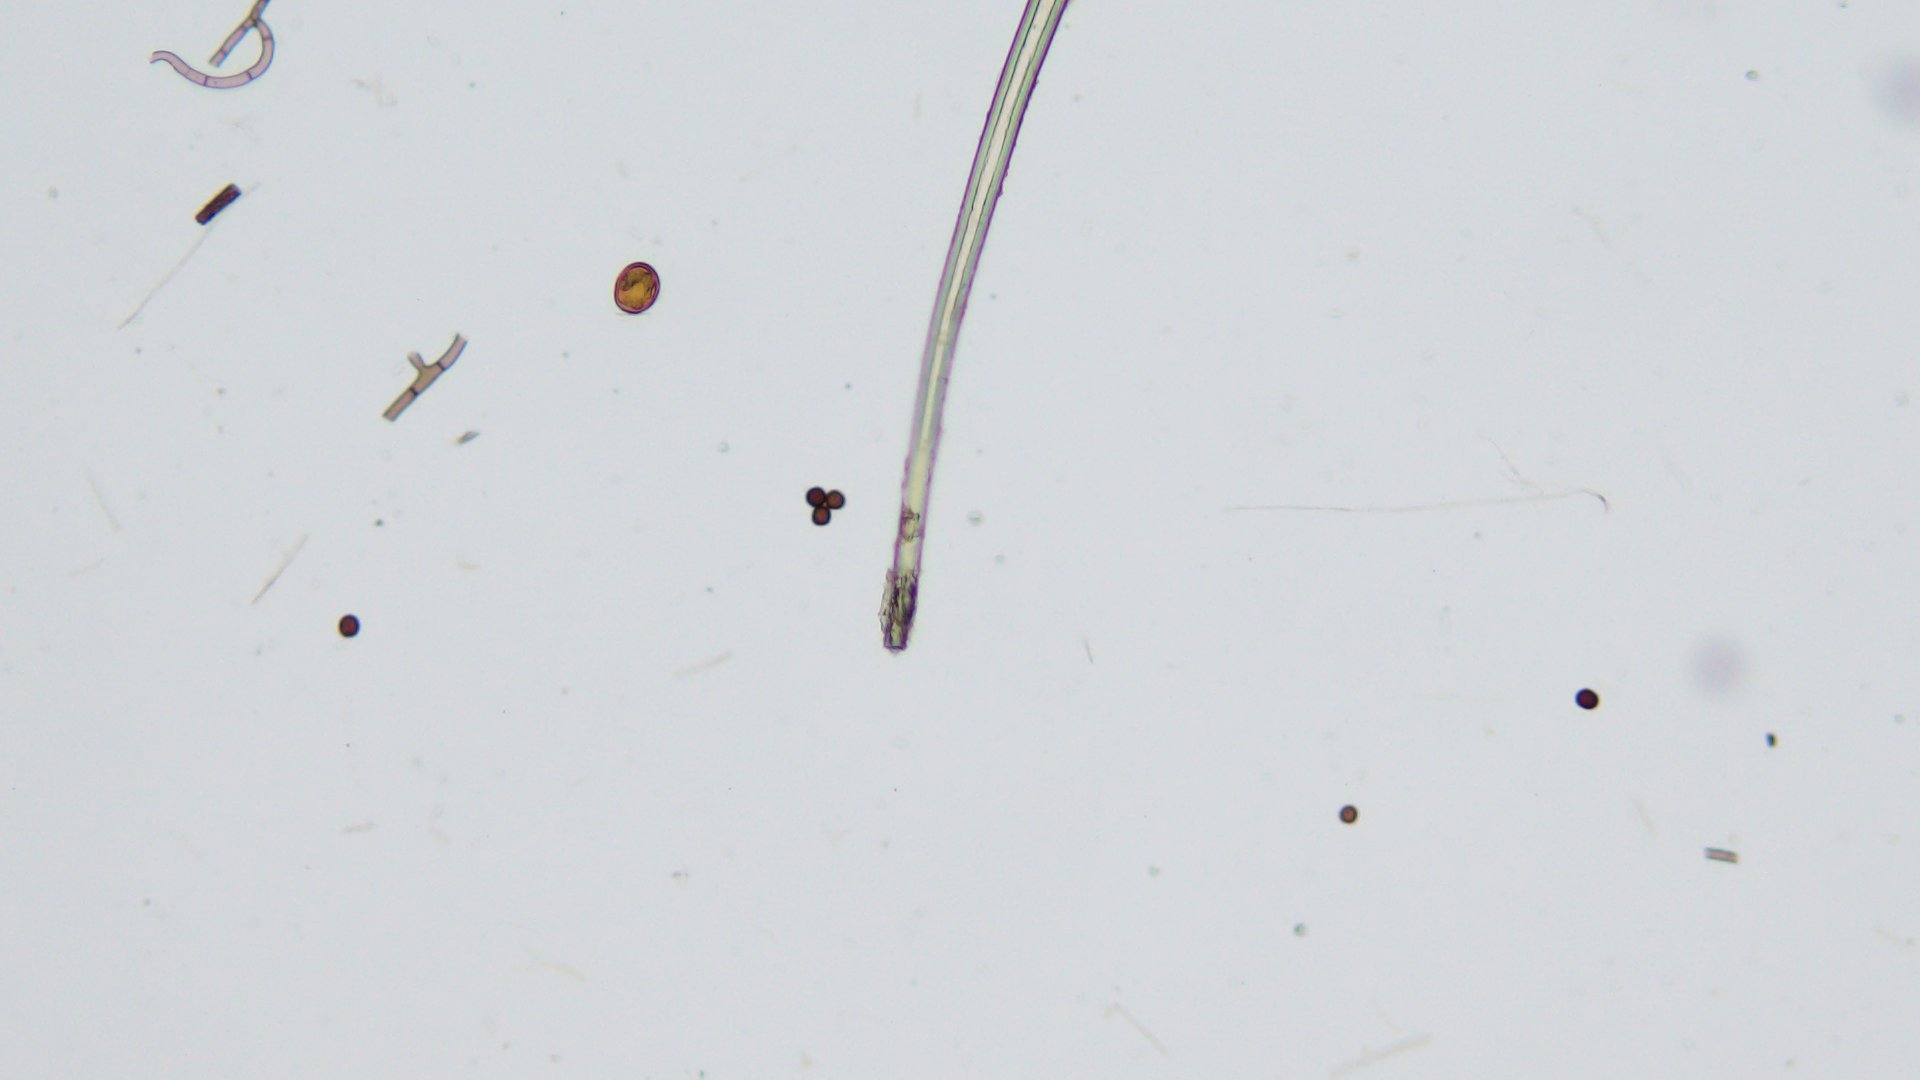shs_spore: (804, 487, 827, 509), (1576, 688, 1600, 709), (808, 506, 832, 526), (339, 615, 359, 637), (825, 491, 845, 510), (1337, 806, 1360, 823)
xb_spore: (612, 261, 659, 315)
